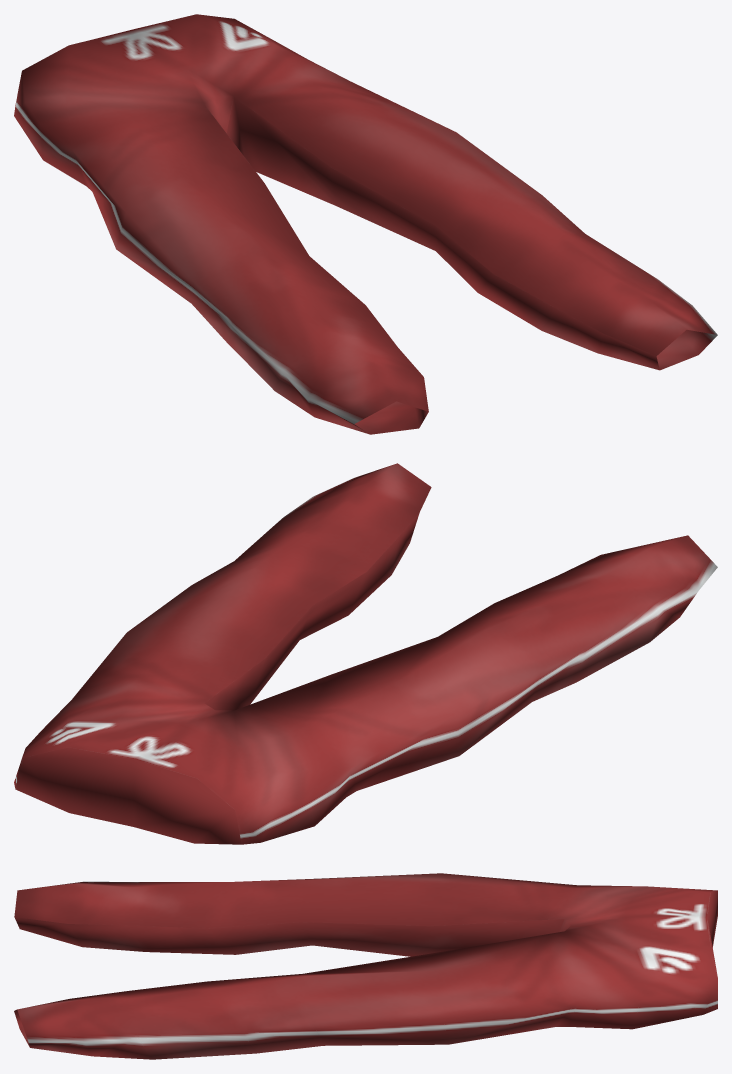
Rendered from Sportstan_Ground.fbx.
3 views of the same model, one above another, from view 1: azimuth 30°, elevation 25°; view 2: azimuth 150°, elevation 25°; view 3: azimuth 270°, elevation 25° (orthographic). The views are drawn at different scales.
Parts seen in each view (by area): view 1: Body.021; view 2: Body.021; view 3: Body.021.
Part boxes in pixels (bbox=[...]): Body.021: bbox=[14, 14, 717, 434]; Body.021: bbox=[14, 463, 717, 844]; Body.021: bbox=[14, 873, 717, 1059].
Size of the model in its own units: 0.2723 by 0.0542 by 0.5083.
